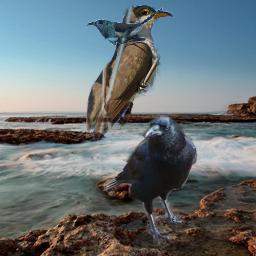Crow: (96, 109, 198, 247)
Cuckoo: (86, 5, 195, 142), (87, 7, 165, 46)
